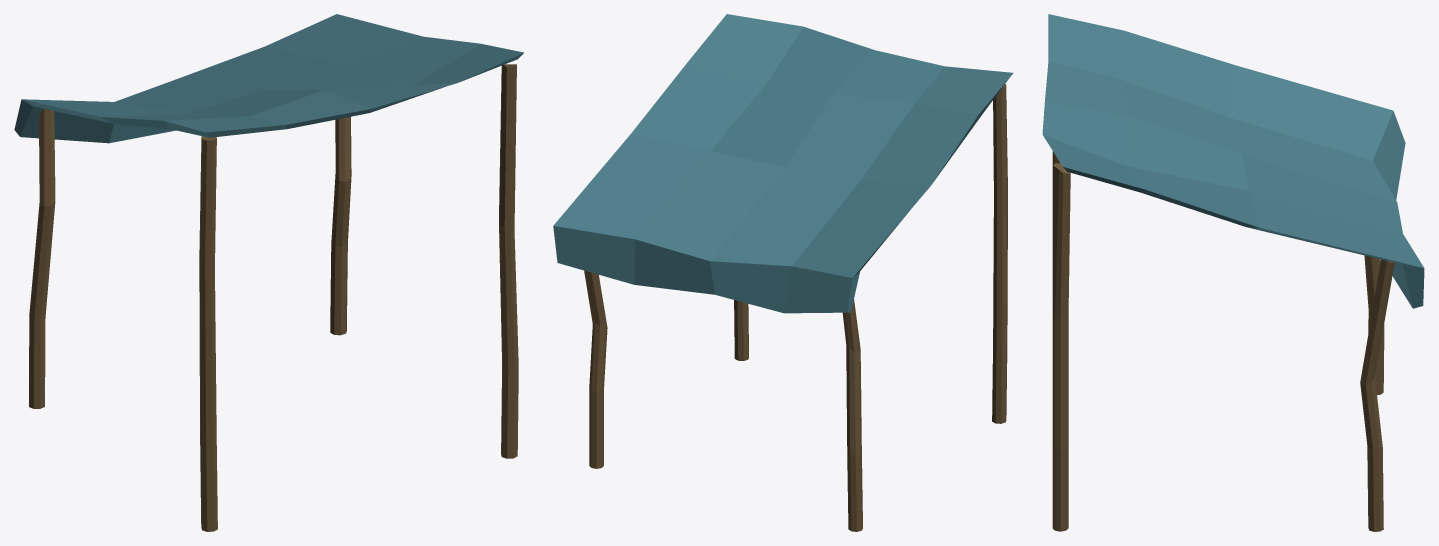
File: island_canopy_slanted.fbx
3 renders of one model, left to right at view 1: azimuth 30°, elevation 25°; view 2: azimuth 150°, elevation 25°; view 3: azimuth 270°, elevation 25°, orthographic. The views are drawn at different scales.
Visible parts, largest first — view 1: Cylinder.016; view 2: Cylinder.016; view 3: Cylinder.016.
Boxes of the visible parts, box(x1,y1,x2,y2) form: Cylinder.016: box(14, 14, 523, 531); Cylinder.016: box(553, 14, 1013, 531); Cylinder.016: box(1042, 14, 1424, 531).
Size of the model in its own units: 2.84 by 3.24 by 3.
